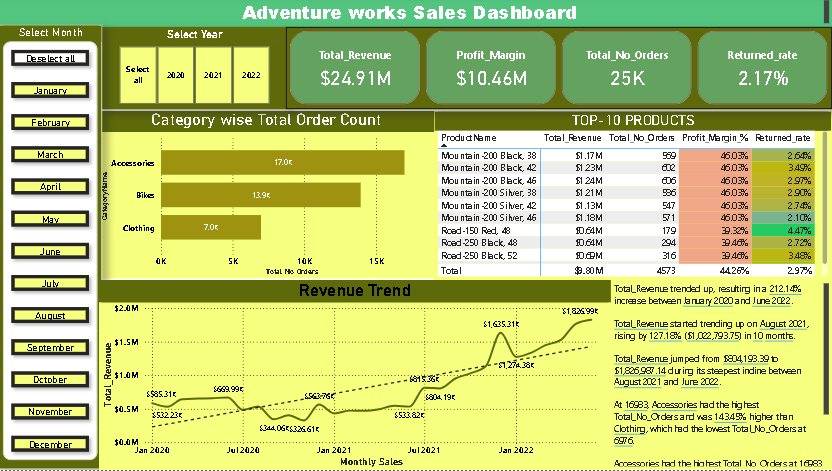

Layout of this report page (visuals, bound fields, positions):
{"tool":"powerbi","page":{"name":"Dash1","canvas":[1280,720],"ordinal":5},"visuals":[{"type":"textbox","box":[10,0,1270,46.2],"z":0},{"type":"clusteredBarChart","title":"Category wise Total Order Count","fields":{"Category":["Product Categories Lookup.CategoryName"],"Y":["Measure_Table.Total_No_Orders"]},"box":[162,173.8,512.5,254.8],"z":1000},{"type":"pivotTable","title":"TOP-10 PRODUCTS","fields":{"Rows":["Product Lookup.ProductName"],"Values":["Measure_Table.Revenue","Measure_Table.Total_No_Orders","Measure_Table.Profit_Margin_%","Measure_Table.Returned_rate"]},"box":[673.8,173.1,606,258.3],"z":2000},{"type":"slicer","title":"Select Year","fields":{"Values":["Calendar Lookup.Date.Variation.Date Hierarchy.Year"]},"box":[167.6,45.7,280.4,125],"z":3000},{"type":"advancedSlicerVisual","title":"Select Month","fields":{"Values":["Calendar Lookup.Date.Variation.Date Hierarchy.Month"]},"box":[10,43.3,156.7,676.7],"z":4000},{"type":"textbox","box":[942.5,431.5,337.2,288.6],"z":5000},{"type":"cardVisual","fields":{"Data":["Measure_Table.Total_Revenue","Measure_Table.Profit_Margin","Measure_Table.Total_No_Orders","Measure_Table.Returned_rate"]},"box":[448,45.7,832,125],"z":6000},{"type":"lineChart","title":"Revenue Trend","fields":{"Category":["Calendar Lookup.Date.Variation.Date Hierarchy.Year","Calendar Lookup.Date.Variation.Date Hierarchy.Quarter","Calendar Lookup.Date.Variation.Date Hierarchy.Month","Calendar Lookup.Date.Variation.Date Hierarchy.Day"],"Y":["Measure_Table.Revenue"]},"box":[163,431.2,780.2,289.5],"z":7000}]}

Visuals, with their boxes in screenshot pixels (x1, y1, x2, y2), scaled from the page's 1280x720 canvas onto the 832x471 screenshot:
textbox: {"left": 6, "top": 0, "right": 831, "bottom": 30}
"Category wise Total Order Count" clusteredBarChart: {"left": 105, "top": 114, "right": 438, "bottom": 280}
"TOP-10 PRODUCTS" pivotTable: {"left": 438, "top": 113, "right": 831, "bottom": 282}
"Select Year" slicer: {"left": 109, "top": 30, "right": 291, "bottom": 112}
"Select Month" advancedSlicerVisual: {"left": 6, "top": 28, "right": 108, "bottom": 470}
textbox: {"left": 613, "top": 282, "right": 831, "bottom": 470}
cardVisual - Measure_Table.Total_Revenue x Measure_Table.Profit_Margin: {"left": 291, "top": 30, "right": 831, "bottom": 112}
"Revenue Trend" lineChart: {"left": 106, "top": 282, "right": 613, "bottom": 470}
